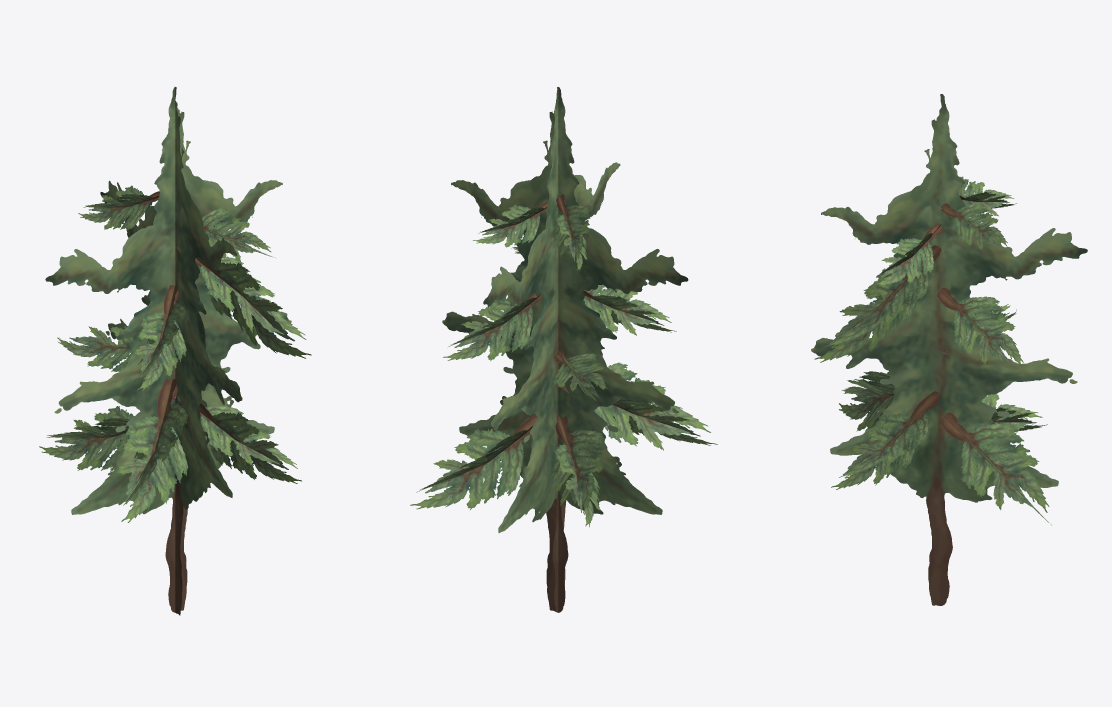
The model's file is mesh_Exterior_GreenTree.fbx.
The picture shows the model from 3 angles, left to right: view 1: azimuth 30°, elevation 25°; view 2: azimuth 150°, elevation 25°; view 3: azimuth 270°, elevation 25°; orthographic projection. The views are drawn at different scales.
Parts seen in each view (by area): view 1: tree_base.003; view 2: tree_base.003; view 3: tree_base.003.
Part boxes in pixels (<box>): tree_base.003: <box>39,87,311,615</box>; tree_base.003: <box>410,87,717,612</box>; tree_base.003: <box>811,94,1087,605</box>.
Size of the model in its own units: 206 by 386 by 202.
